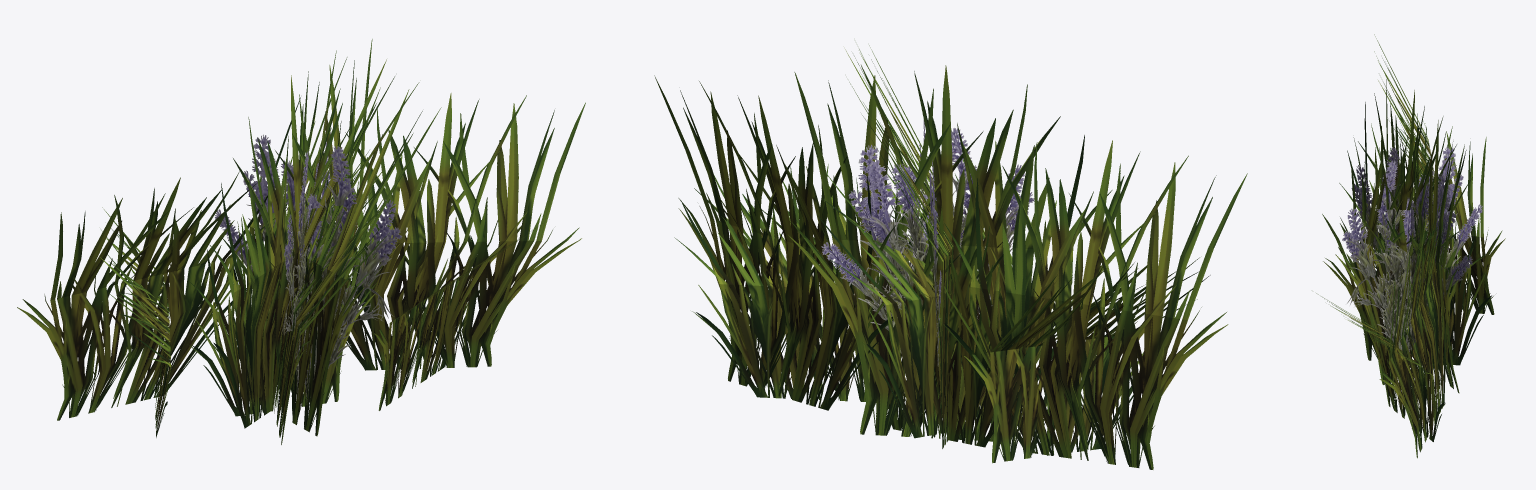
File: bush_three.glb
3 views of the same model, side by side, from view 1: azimuth 30°, elevation 25°; view 2: azimuth 150°, elevation 25°; view 3: azimuth 270°, elevation 25° (orthographic). The views are drawn at different scales.
Visible parts, largest first — view 1: grass--bush-01, lavender-flower-01; view 2: grass--bush-01, lavender-flower-01; view 3: grass--bush-01, lavender-flower-01.
Part boxes in pixels (box(x1,y1,x2,y2)): grass--bush-01: box(17, 39, 585, 444); lavender-flower-01: box(215, 128, 402, 401); grass--bush-01: box(654, 45, 1247, 469); lavender-flower-01: box(821, 120, 1034, 366); grass--bush-01: box(1316, 34, 1505, 458); lavender-flower-01: box(1342, 146, 1482, 354).
Size of the model in its own units: 3.27 by 1.98 by 1.31.
2 materials, 2 textured.
